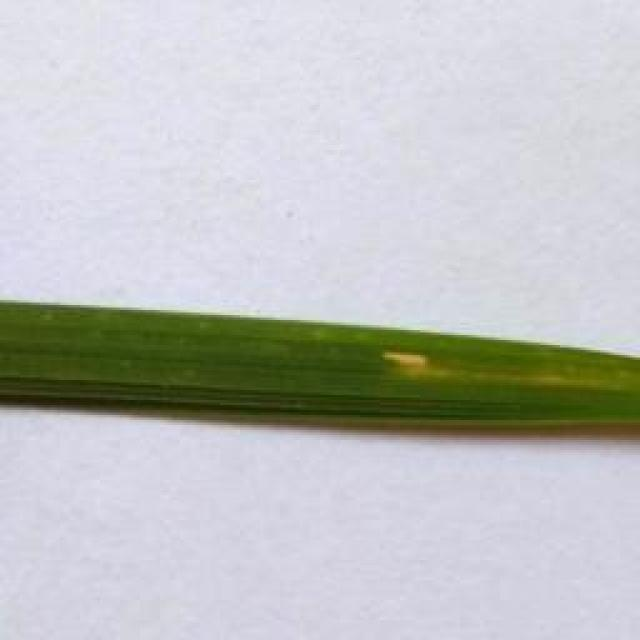Unhealthy: (381, 353, 618, 392)
